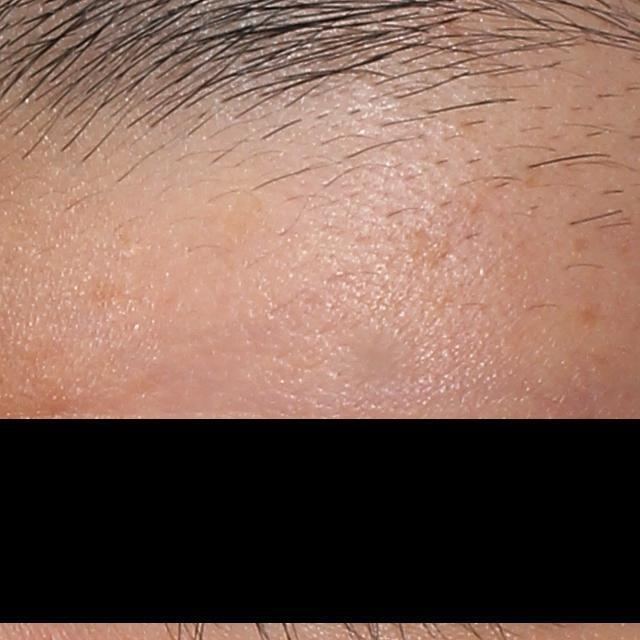melasma: (90, 279, 134, 306)
